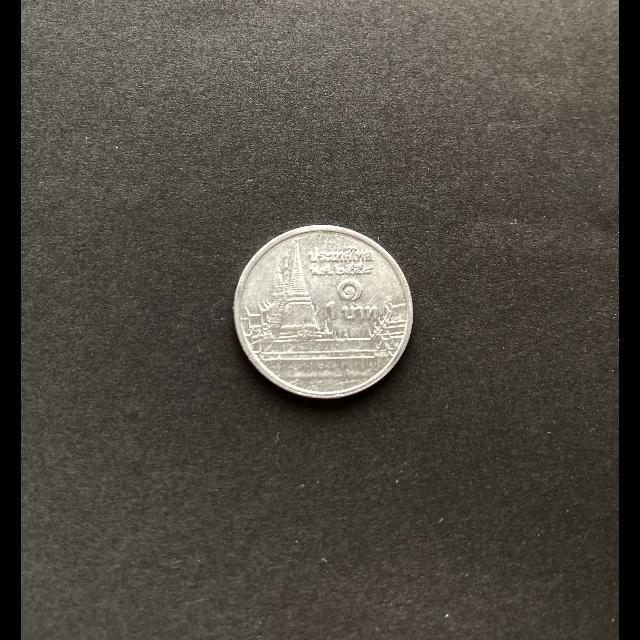1 Bath: (230, 223, 418, 404)
